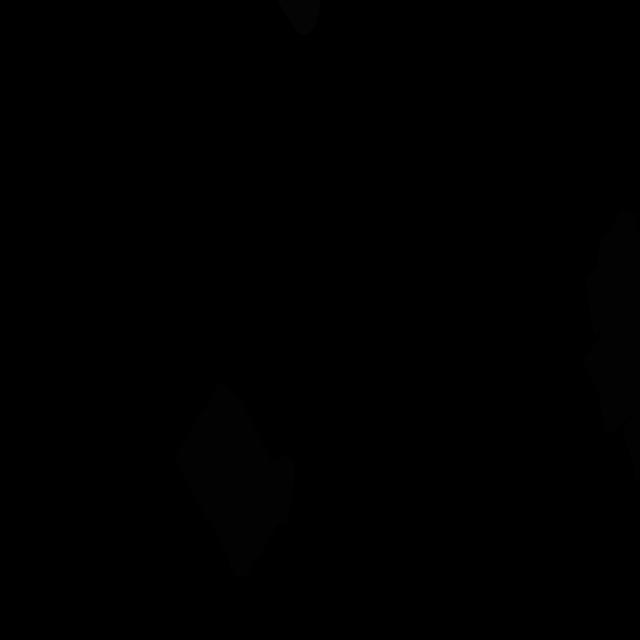cardboard: (174, 382, 288, 577), (582, 209, 640, 483), (270, 455, 296, 525)
soft_plastic: (278, 0, 321, 34)
